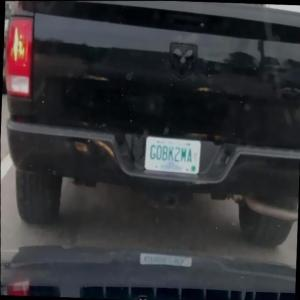Plate: (143, 136, 201, 175)
